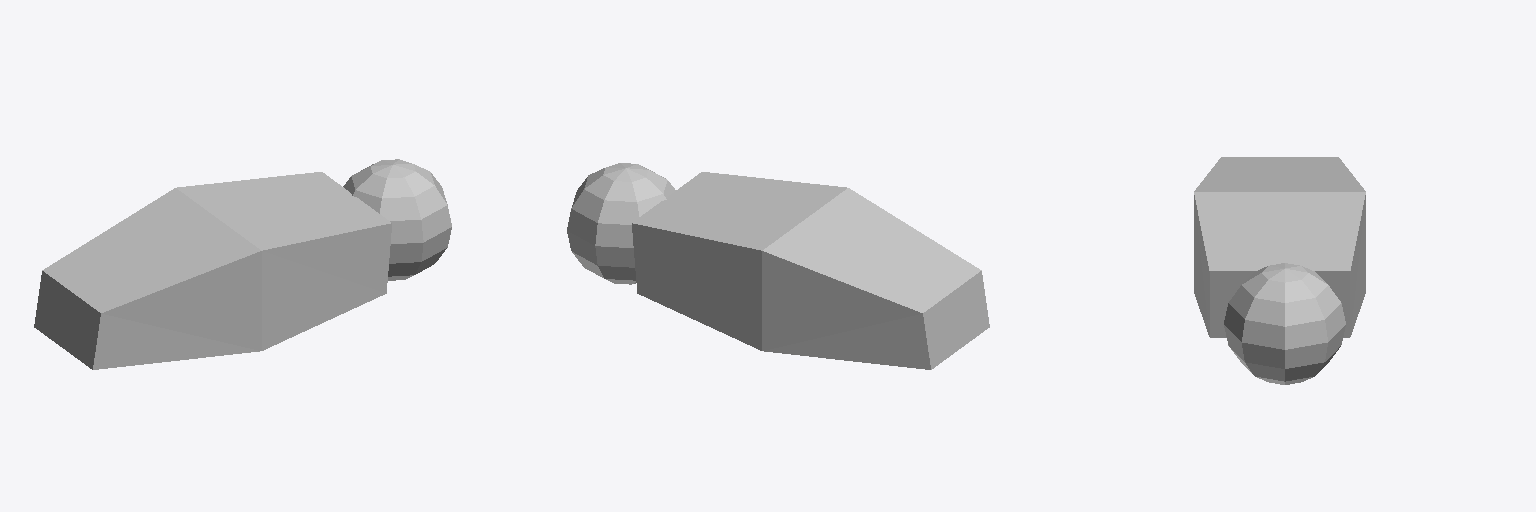
File: right_hand.obj
The picture shows the model from 3 angles: view 1: azimuth 30°, elevation 25°; view 2: azimuth 150°, elevation 25°; view 3: azimuth 270°, elevation 25°; orthographic projection.
Parts seen in each view (by area): view 1: Right_Hand.001_Cube.017; view 2: Right_Hand.001_Cube.017; view 3: Right_Hand.001_Cube.017.
Part boxes in pixels (bbox=[...]): Right_Hand.001_Cube.017: bbox=[34, 159, 451, 369]; Right_Hand.001_Cube.017: bbox=[567, 163, 989, 369]; Right_Hand.001_Cube.017: bbox=[1194, 157, 1365, 384].
Size of the model in its own units: 0.4681 by 0.1289 by 0.1814.